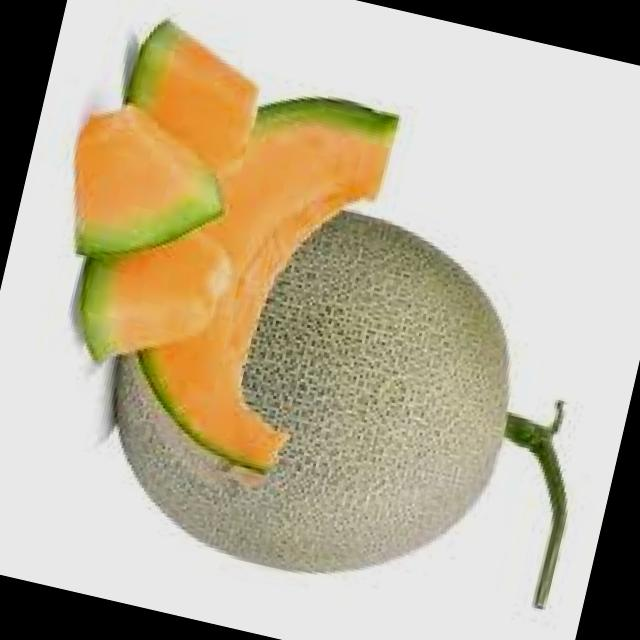cantaloupe: (202, 194, 624, 632), (172, 79, 404, 492)
